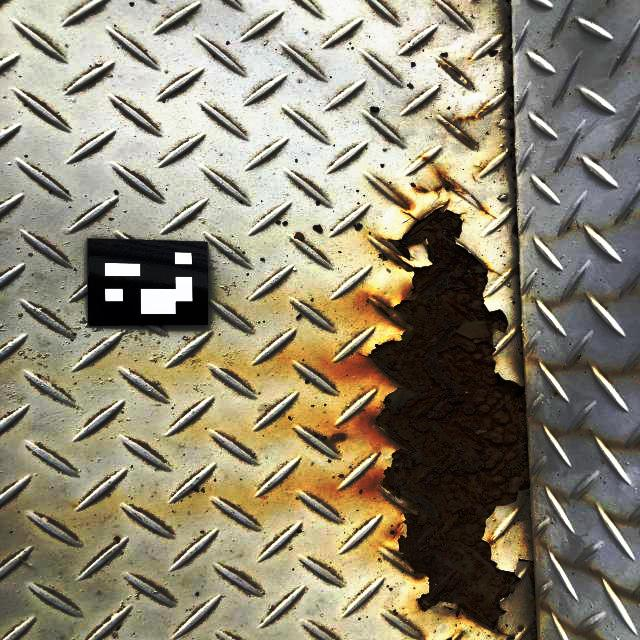Corrosion: (371, 209, 530, 631)
